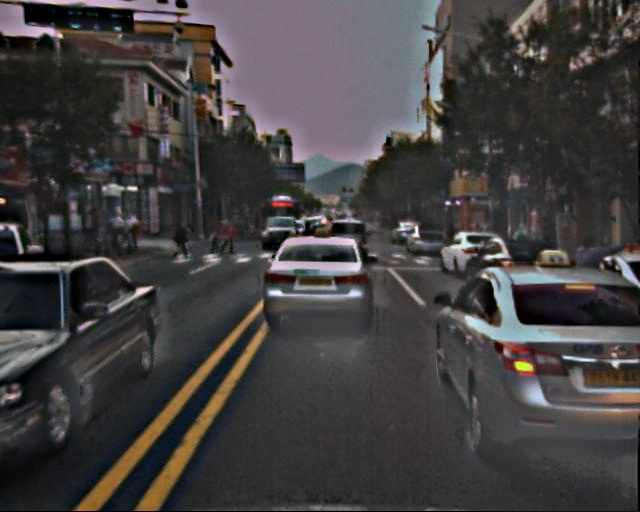person: (570, 236, 609, 332), (89, 206, 141, 250), (171, 215, 190, 262), (219, 213, 237, 257), (209, 229, 218, 252)
